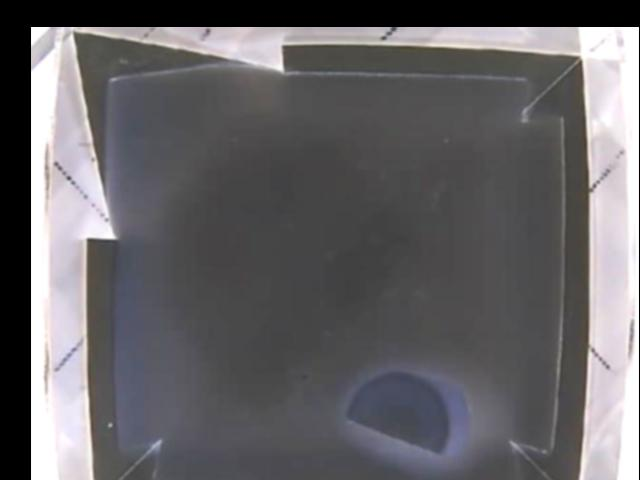Mooli: (343, 369, 471, 455)
